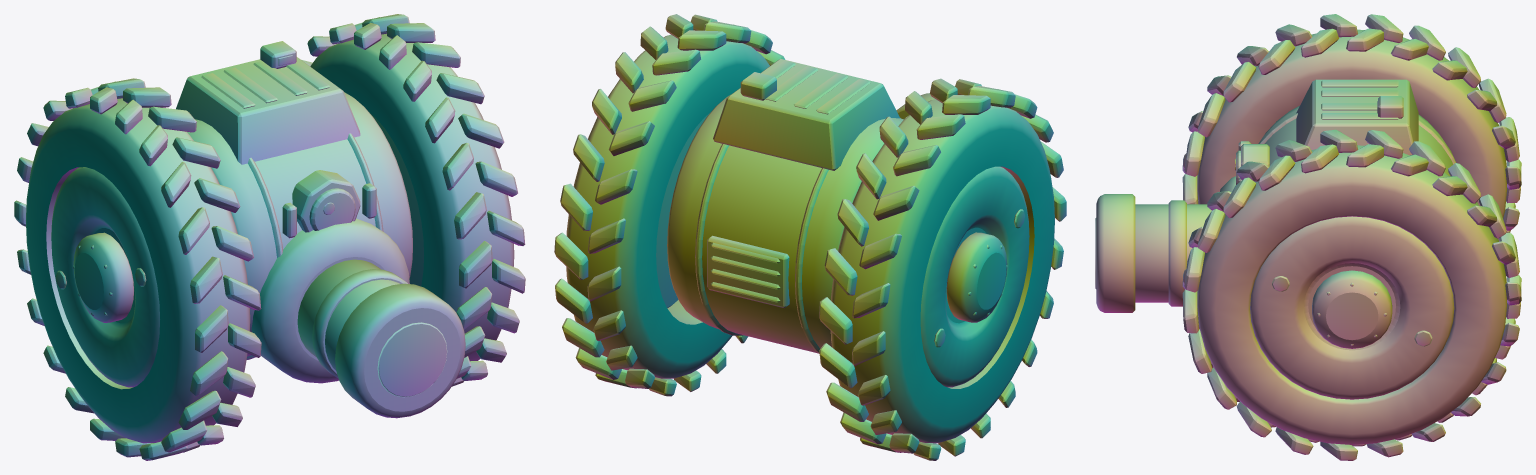
File: battlewheel_rig.glb
3 renders of one model, left to right at view 1: azimuth 30°, elevation 25°; view 2: azimuth 150°, elevation 25°; view 3: azimuth 270°, elevation 25°, orthographic. The views are drawn at different scales.
Parts seen in each view (by area): view 1: wheel_1, wheel_0, hull, barrel; view 2: wheel_1, hull, wheel_0; view 3: wheel_0, wheel_1, barrel, hull.
Boxes of the visible parts, <box> form: wheel_1: <box>14,78,261,460</box>; wheel_0: <box>301,14,525,386</box>; hull: <box>176,41,412,359</box>; barrel: <box>251,218,465,418</box>; wheel_1: <box>819,78,1066,460</box>; hull: <box>667,59,907,353</box>; wheel_0: <box>554,14,785,396</box>; wheel_0: <box>1182,129,1521,460</box>; wheel_1: <box>1182,14,1521,241</box>; barrel: <box>1095,176,1235,312</box>; hull: <box>1235,79,1456,184</box>.
Bounding box in the file's own units: 7.26 × 6.56 × 8.25.
